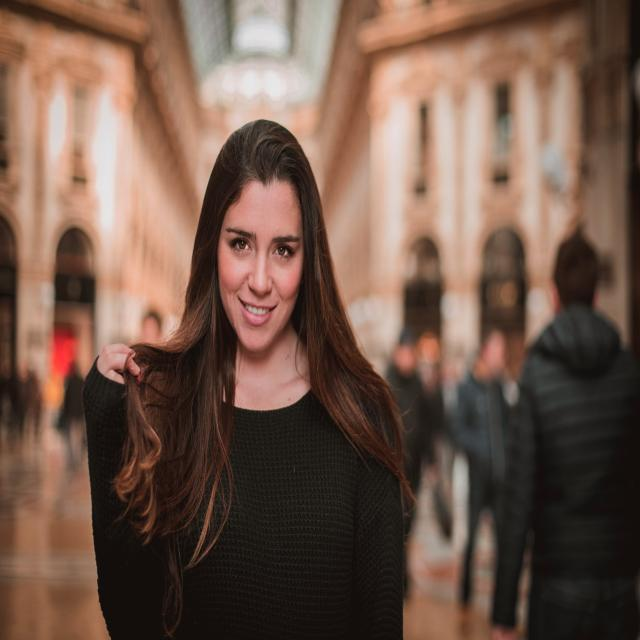adult: (78, 115, 411, 640)
